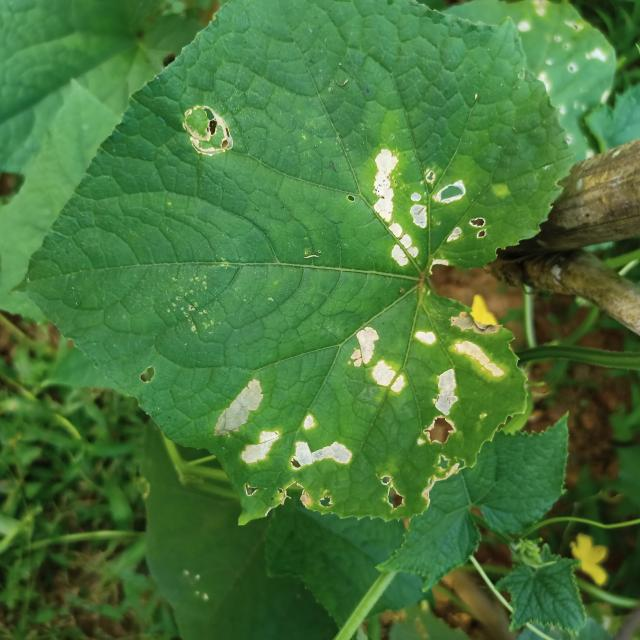disease_cucumber: (365, 144, 491, 278), (412, 309, 508, 478), (212, 376, 290, 484), (350, 321, 407, 402), (290, 410, 358, 476)
